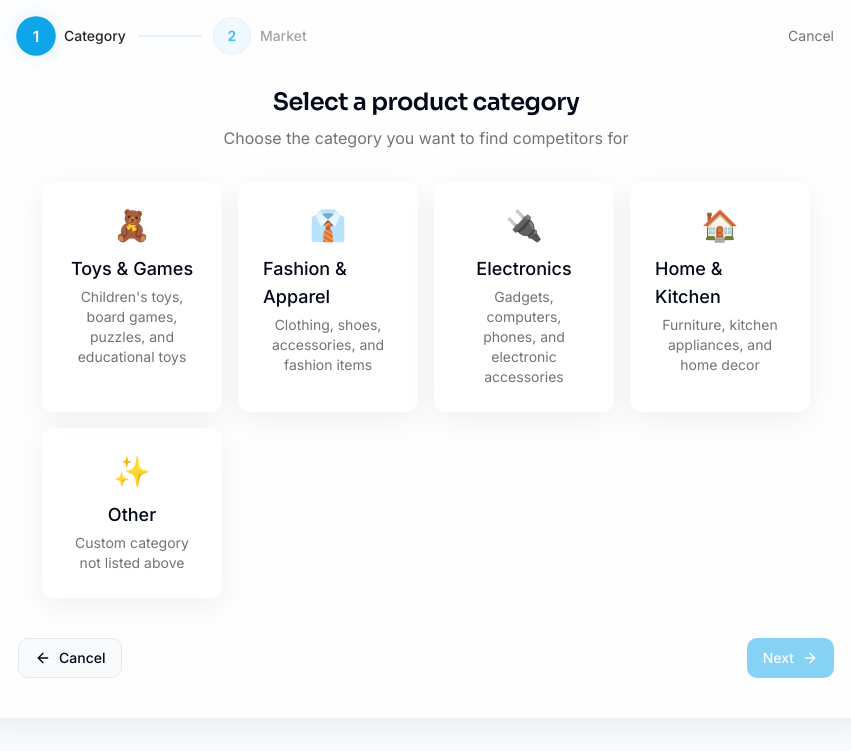
Test case: OnboardingForm › advances to the location step after choosing a category
Click the heading "Toys & Games". click: (132, 269)
box: [71,255,193,283]
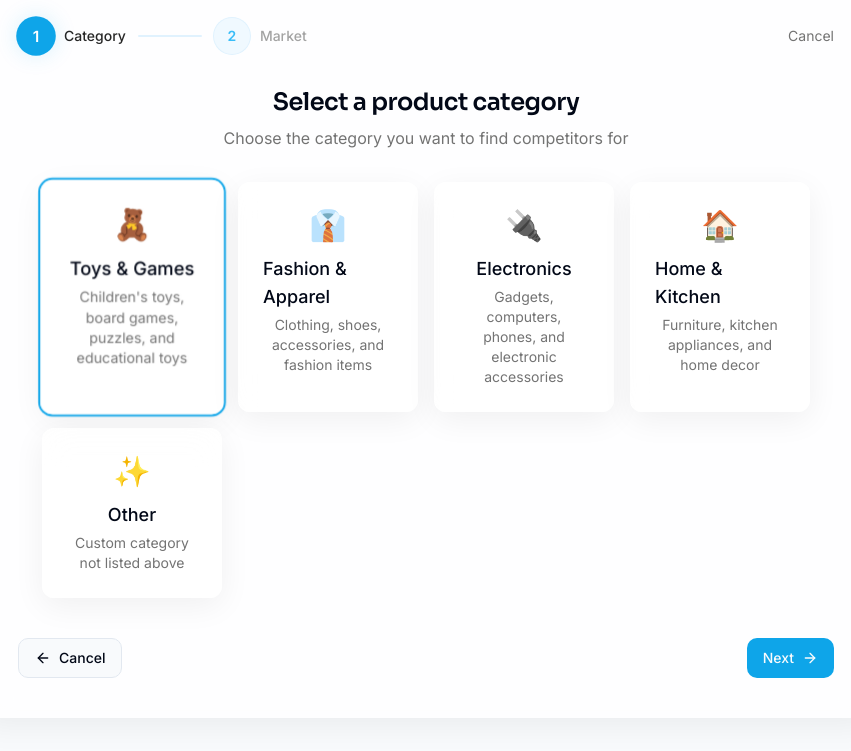
Now the button "Next" is enabled
Click the button "Next". click: (790, 658)
box: [747,638,834,678]
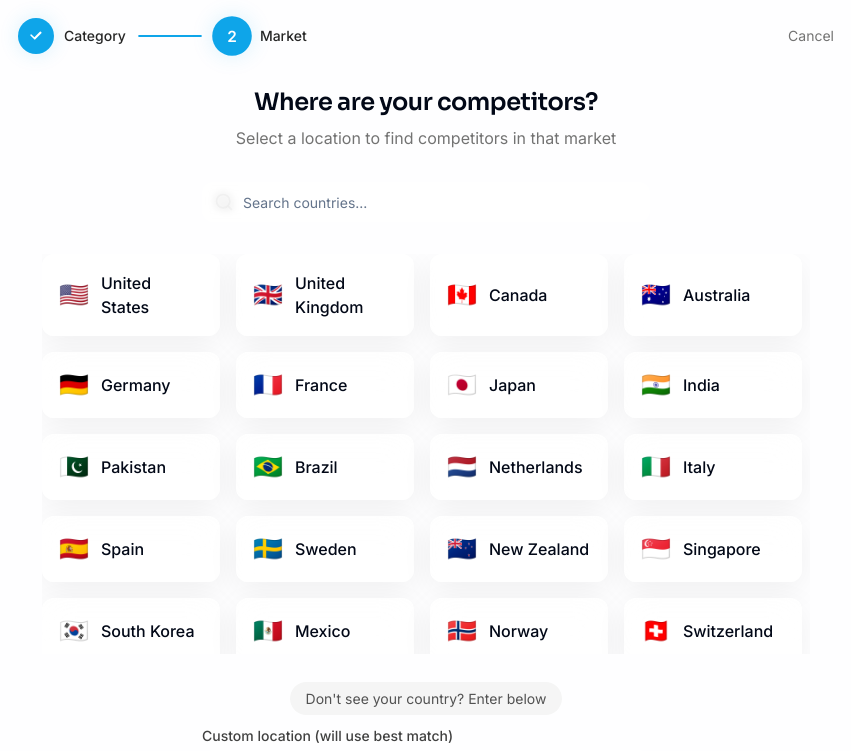
Now the heading "Where are your competitors?" is shown, box [254,87,598,117]
